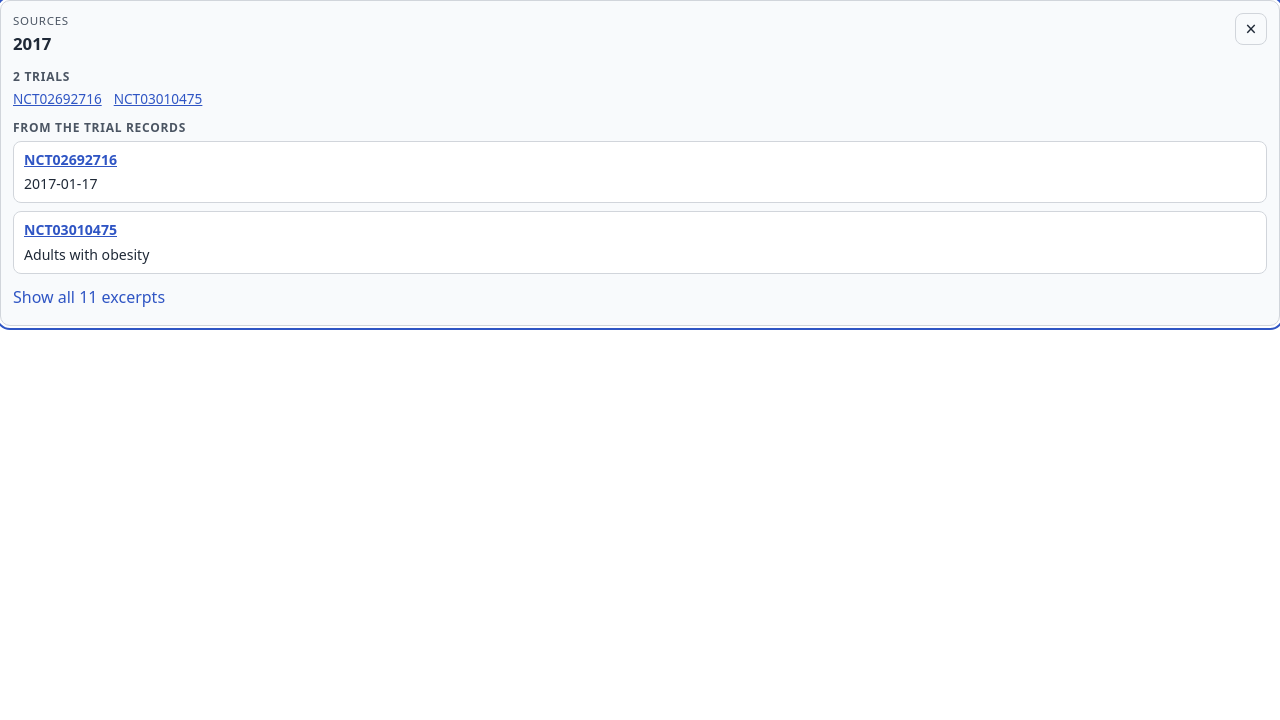
Test case: schema 2.1 citations › accepts full citations from the all-citations endpoint (url + field_path per item)
The width and height of the screenshot is (1280, 720).
Click the button "Show all 11 excerpts": (89, 298) [13, 282, 165, 313]
(page scrolled)
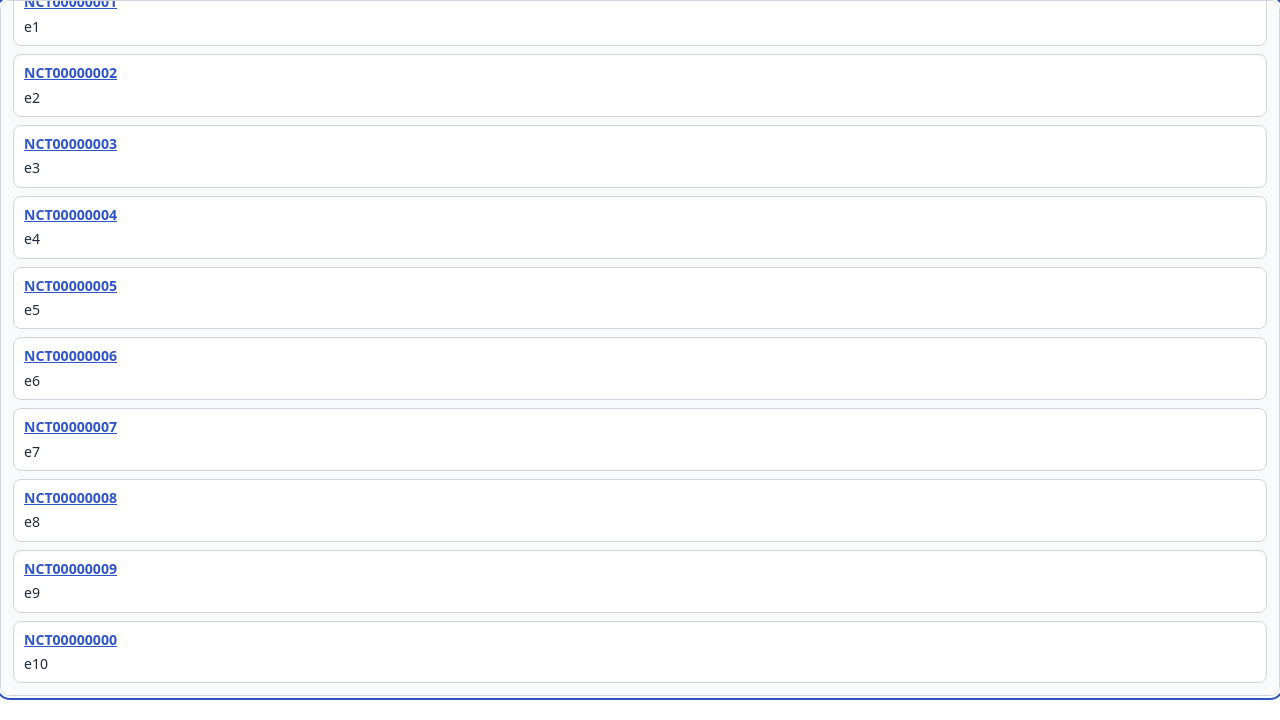
Check: the text "e10" is shown, box [24, 654, 48, 673]
